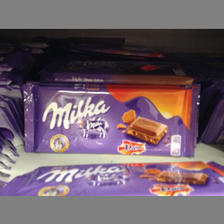chocolate: (20, 82, 200, 158), (1, 160, 223, 196)
